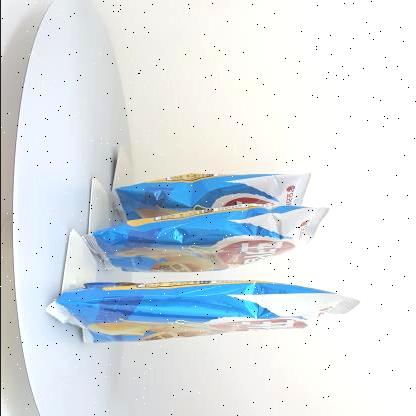Others: (39, 155, 369, 385)
